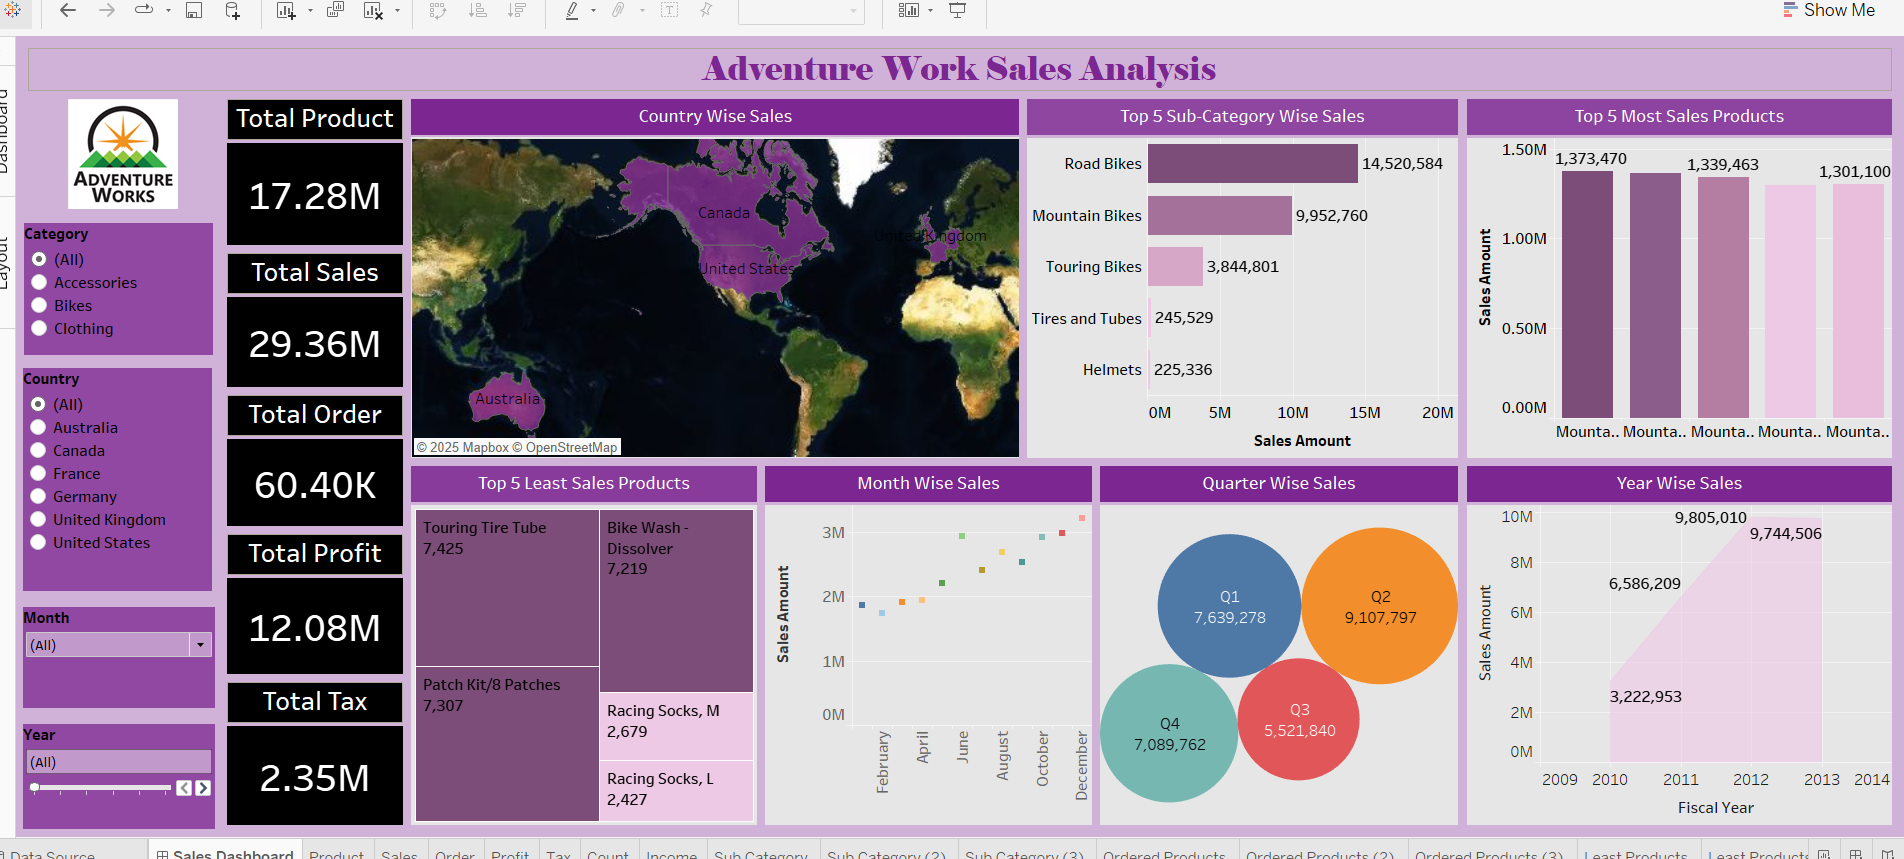

The dashboard page shown, as its layout file describes it:
{"tool":"tableau","page":{"name":"Sales Dashboard","canvas":[1000,1000],"units":"permille","ordinal":2},"visuals":[{"type":"title","box":[4.2,9.3,991.5,59.2]},{"type":"image","param":"Image/adventure work logo.png","box":[4.2,68.5,105.4,137]},{"type":"worksheet","title":"Product","mark":"Automatic","box":[109.7,68.5,97.4,178.8]},{"type":"worksheet","title":"Map (3)","mark":"Multipolygon","box":[207,68.5,326.6,426.8]},{"type":"worksheet","title":"Sub Category (3)","mark":"Automatic","rows":["EnglishProductSubcategoryName"],"cols":["SalesAmount"],"box":[533.6,68.5,232.8,426.8]},{"type":"worksheet","title":"Ordered Products (3)","mark":"Automatic","rows":["SalesAmount"],"cols":["EnglishProductName"],"box":[766.4,68.5,229.4,426.8]},{"type":"filter","title":"Least Products (3)","param":"[federated.1igmwji03699eh17bwwhh0wy6o8f].[none:EnglishProductCategoryName:nk]","box":[4.4,233.5,100,164.8]},{"type":"worksheet","title":"Sales","mark":"Automatic","box":[109.7,247.3,97.4,165.5]},{"type":"worksheet","title":"Order","mark":"Automatic","box":[109.7,412.9,97.4,162]},{"type":"filter","title":"Least Products (3)","param":"[federated.1igmwji03699eh17bwwhh0wy6o8f].[none:SalesTerritoryCountry:nk]","box":[3.5,414.5,100.2,278.4]},{"type":"worksheet","title":"Least Products (3)","mark":"Automatic","box":[207,495.3,187.6,426.9]},{"type":"worksheet","title":"Month Wise Order (3)","mark":"Square","rows":["SalesAmount"],"cols":["EnglishMonthName"],"box":[394.6,495.3,177.7,426.9]},{"type":"worksheet","title":"Pie Chart (3)","mark":"Circle","box":[572.3,495.3,194.1,426.9]},{"type":"worksheet","title":"Year Wise Order (3)","mark":"Area","rows":["SalesAmount"],"cols":["FiscalYear"],"box":[766.4,495.3,229.4,426.9]},{"type":"worksheet","title":"Profit","mark":"Automatic","box":[109.7,574.9,97.4,171.9]},{"type":"filter","title":"Least Products (3)","param":"[federated.1igmwji03699eh17bwwhh0wy6o8f].[mn:OrderDate:ok]","box":[3.5,712.9,101.9,126.1]},{"type":"worksheet","title":"Tax","mark":"Automatic","box":[109.7,746.8,97.4,175.4]},{"type":"filter","title":"Least Products (3)","param":"[federated.1igmwji03699eh17bwwhh0wy6o8f].[yr:OrderDate:ok]","box":[3.5,858.9,101.9,131.1]}]}

Visuals, with their boxes on the dashboard's canvas, which has no fixed pixel size, in thousandths of its width and height (x1, y1, x2, y2). These are canvas units, not pixel positions in the 1904x859 screenshot, which may show the page scaled, cropped or inside an application window:
title: [left=4, top=9, right=996, bottom=68]
image: [left=4, top=68, right=110, bottom=206]
"Product" worksheet: [left=110, top=68, right=207, bottom=247]
"Map (3)" worksheet (Multipolygon marks): [left=207, top=68, right=534, bottom=495]
"Sub Category (3)" worksheet: [left=534, top=68, right=766, bottom=495]
"Ordered Products (3)" worksheet: [left=766, top=68, right=996, bottom=495]
"Least Products (3)" filter: [left=4, top=234, right=104, bottom=398]
"Sales" worksheet: [left=110, top=247, right=207, bottom=413]
"Order" worksheet: [left=110, top=413, right=207, bottom=575]
"Least Products (3)" filter: [left=4, top=414, right=104, bottom=693]
"Least Products (3)" worksheet: [left=207, top=495, right=395, bottom=922]
"Month Wise Order (3)" worksheet (Square marks): [left=395, top=495, right=572, bottom=922]
"Pie Chart (3)" worksheet (Circle marks): [left=572, top=495, right=766, bottom=922]
"Year Wise Order (3)" worksheet (Area marks): [left=766, top=495, right=996, bottom=922]
"Profit" worksheet: [left=110, top=575, right=207, bottom=747]
"Least Products (3)" filter: [left=4, top=713, right=105, bottom=839]
"Tax" worksheet: [left=110, top=747, right=207, bottom=922]
"Least Products (3)" filter: [left=4, top=859, right=105, bottom=990]
